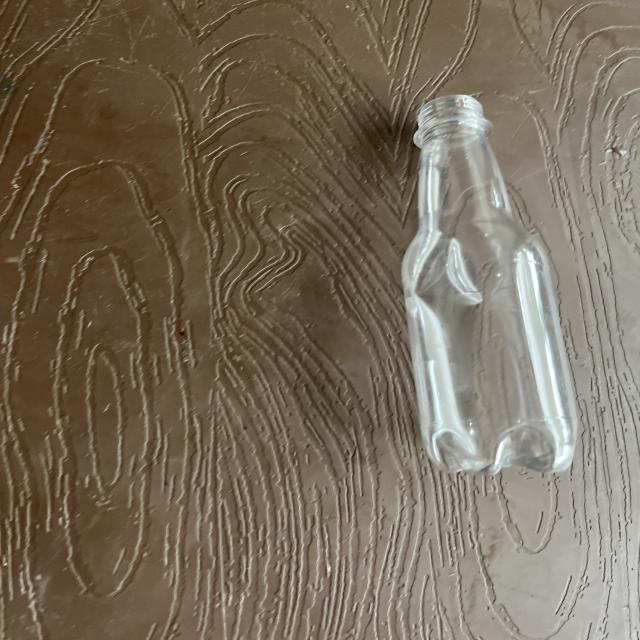PET_ClearBottle: (407, 84, 598, 629)
